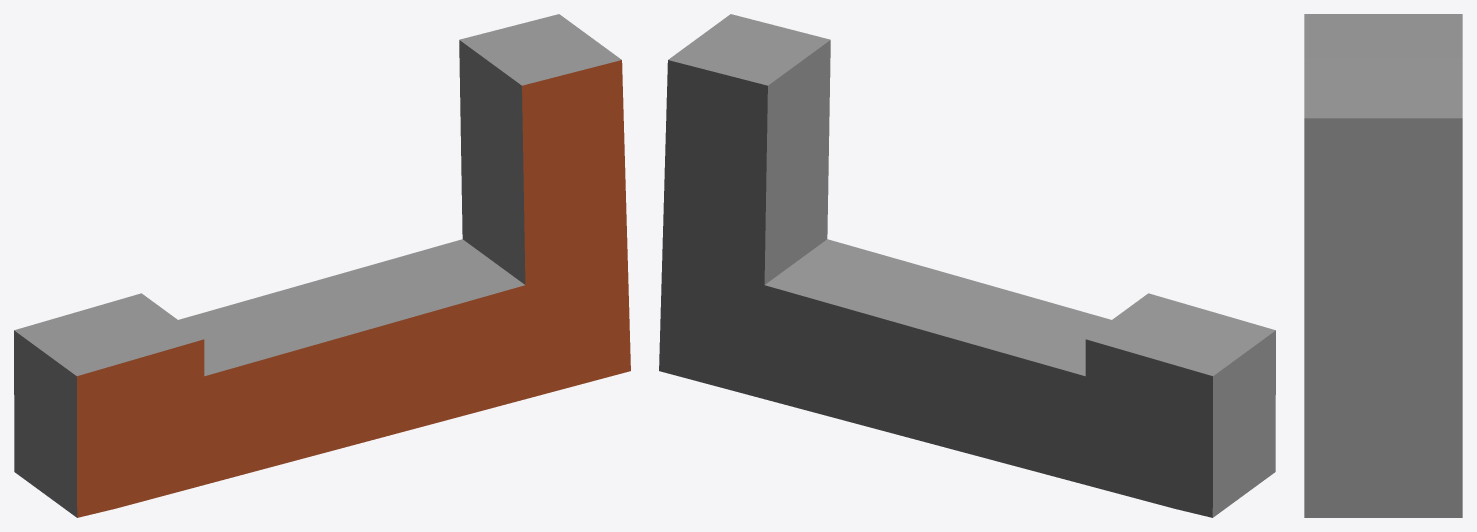
Rendered from construction_1858_assumed_A_Casa_h6m.obj.
3 renders of one model, left to right at view 1: azimuth 30°, elevation 25°; view 2: azimuth 150°, elevation 25°; view 3: azimuth 270°, elevation 25°, orthographic. The views are drawn at different scales.
Visible parts, largest first — view 1: construction_1858_assumed_A_Casa; view 2: construction_1858_assumed_A_Casa; view 3: construction_1858_assumed_A_Casa.
Boxes of the visible parts, x1=… form: construction_1858_assumed_A_Casa: x1=14, y1=14, x2=630, y2=517; construction_1858_assumed_A_Casa: x1=659, y1=14, x2=1275, y2=517; construction_1858_assumed_A_Casa: x1=1304, y1=14, x2=1462, y2=517.
Size of the model in its own units: 30.55 by 17.13 by 6.
